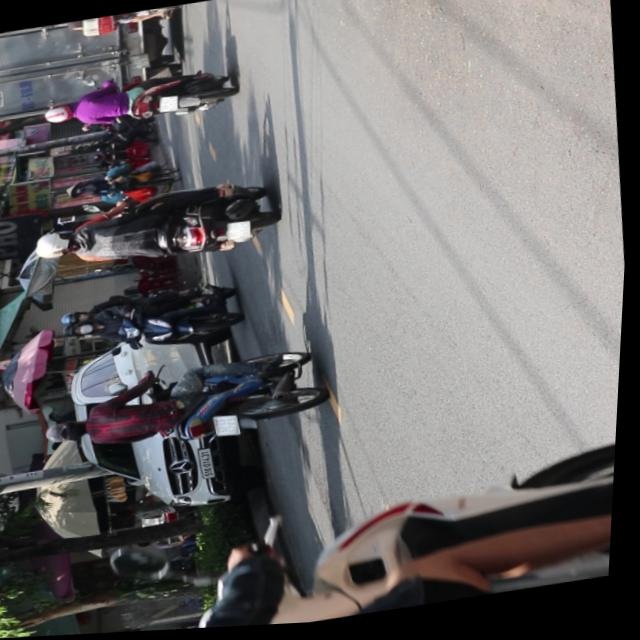helmet: (35, 231, 80, 262), (43, 104, 77, 126), (63, 320, 99, 340), (62, 311, 93, 327)
licenseplate: (40, 345, 337, 468), (30, 175, 286, 284), (58, 278, 250, 360), (40, 64, 240, 138)
motorcyclist: (47, 418, 94, 447)
nohelmet: (217, 415, 244, 440), (227, 222, 254, 244), (159, 97, 178, 114)
